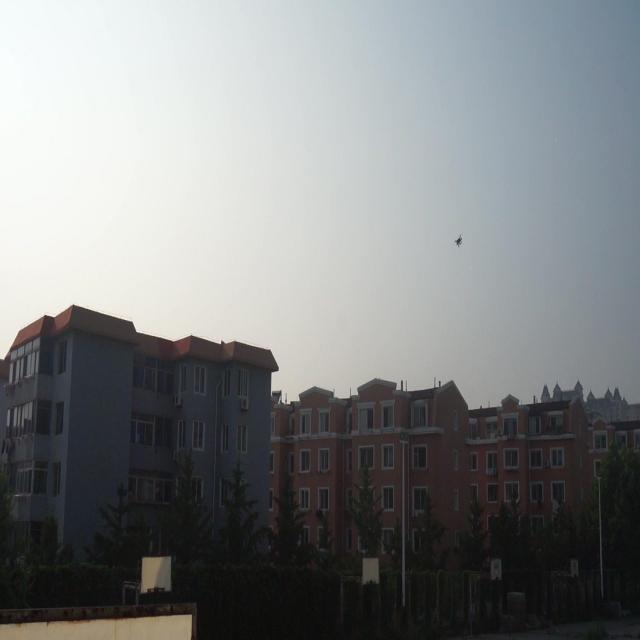UAV: (453, 234, 463, 248)
